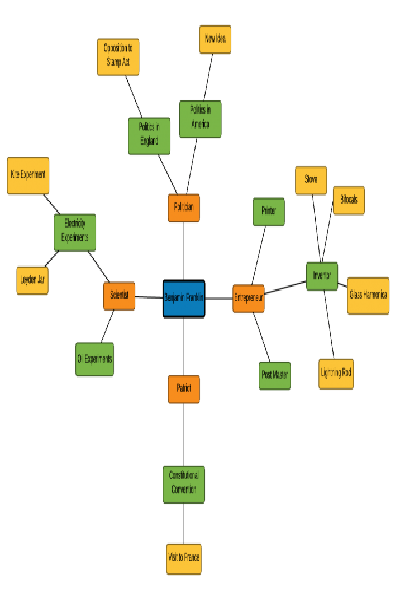arrow: (323, 290, 337, 357), (253, 312, 272, 359), (123, 74, 142, 117), (158, 154, 179, 190), (253, 227, 266, 285), (310, 193, 321, 259), (88, 251, 108, 279), (180, 404, 188, 463), (188, 139, 197, 189), (102, 312, 117, 341), (322, 215, 331, 262), (205, 53, 214, 99), (180, 222, 187, 277), (180, 318, 186, 373), (44, 193, 60, 212), (46, 251, 61, 271), (180, 504, 186, 542), (134, 293, 160, 301), (207, 295, 231, 301), (338, 280, 345, 290)
idea: (346, 275, 391, 315), (52, 211, 96, 251), (162, 278, 206, 317), (127, 115, 169, 155), (96, 38, 139, 77), (162, 464, 204, 503), (178, 100, 222, 137), (7, 156, 48, 193), (74, 340, 113, 377), (165, 543, 204, 576), (317, 358, 353, 391), (294, 165, 329, 196), (252, 196, 287, 226), (332, 185, 367, 215), (305, 261, 340, 291), (167, 192, 201, 222), (200, 24, 232, 55), (15, 267, 49, 296), (233, 283, 264, 314), (167, 374, 200, 403), (103, 282, 135, 311), (258, 361, 291, 389)
